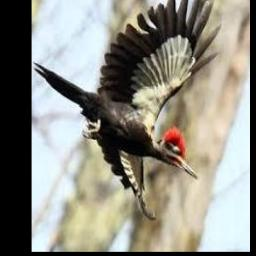Woodpecker: (33, 0, 221, 219)
